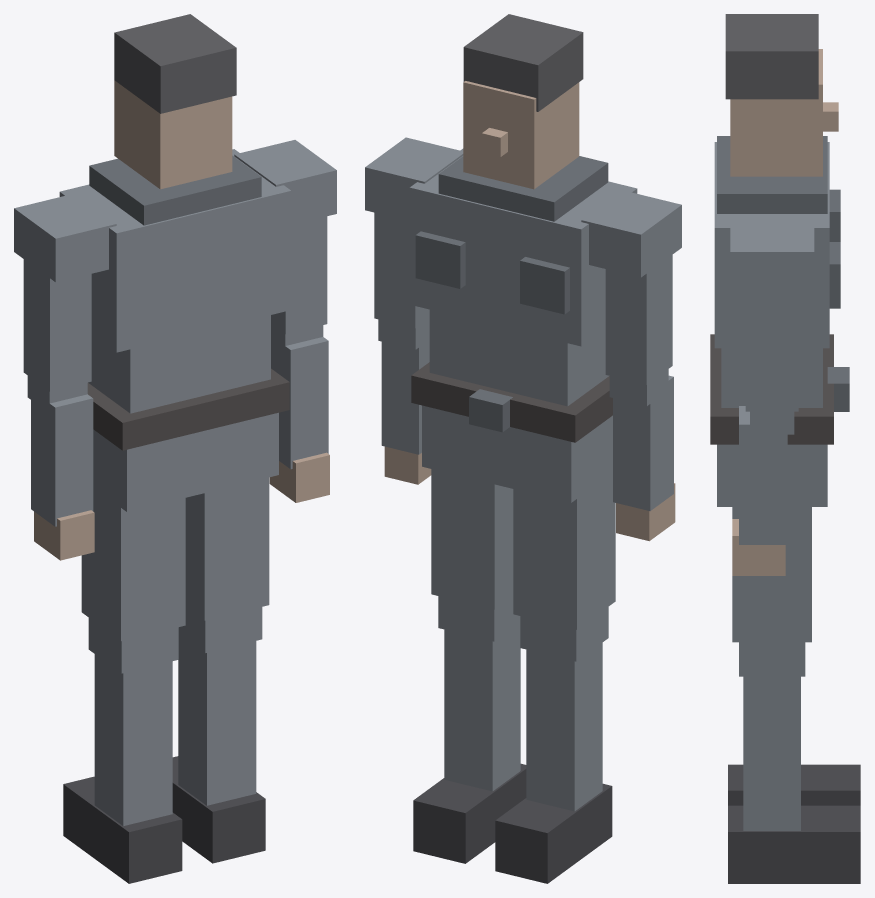
The model's file is crew_robles.glb.
3 views of the same model, side by side, from view 1: azimuth 30°, elevation 25°; view 2: azimuth 150°, elevation 25°; view 3: azimuth 270°, elevation 25° (orthographic). The views are drawn at different scales.
Parts seen in each view (by area): view 1: chest, thigh_-1, shin_1, shin_-1, hips, waist, thigh_1, beanie, head, uarm_l, farm_l, belt (+13 smaller); view 2: chest, thigh_-1, shin_-1, shin_1, hips, waist, thigh_1, head, beanie, boot_-1, uarm_l, boot_1 (+17 smaller); view 3: boot_1, shin_1, beanie, head, chest, thigh_1, shldr_1, uarm_r, farm_r, collar, belt, hips (+9 smaller).
Boxes of the visible parts, x1=… form: chest: x1=59, y1=149, x2=291, y2=352; thigh_-1: x1=81, y1=488, x2=185, y2=640; shin_1: x1=178, y1=634, x2=256, y2=805; shin_-1: x1=94, y1=654, x2=172, y2=825; hips: x1=93, y1=412, x2=278, y2=511; waist: x1=88, y1=315, x2=270, y2=413; thigh_1: x1=185, y1=477, x2=269, y2=620; beanie: x1=114, y1=14, x2=236, y2=113; head: x1=114, y1=80, x2=232, y2=189; uarm_l: x1=23, y1=259, x2=91, y2=391; farm_l: x1=31, y1=390, x2=93, y2=526; belt: x1=87, y1=368, x2=289, y2=450; chest: x1=409, y1=148, x2=637, y2=346; thigh_-1: x1=513, y1=473, x2=615, y2=629; shin_-1: x1=526, y1=643, x2=602, y2=811; shin_1: x1=444, y1=623, x2=520, y2=791; hips: x1=422, y1=405, x2=612, y2=502; waist: x1=429, y1=309, x2=609, y2=406; thigh_1: x1=431, y1=469, x2=513, y2=609; head: x1=463, y1=81, x2=579, y2=189; beanie: x1=463, y1=14, x2=583, y2=111; boot_-1: x1=495, y1=783, x2=612, y2=883; uarm_l: x1=605, y1=255, x2=672, y2=384; boot_1: x1=413, y1=763, x2=526, y2=863; boot_1: x1=728, y1=805, x2=860, y2=883; shin_1: x1=743, y1=676, x2=800, y2=830; beanie: x1=725, y1=14, x2=818, y2=99; head: x1=730, y1=49, x2=822, y2=176; chest: x1=714, y1=142, x2=829, y2=348; thigh_1: x1=732, y1=507, x2=811, y2=642; shldr_1: x1=730, y1=222, x2=814, y2=296; uarm_r: x1=745, y1=296, x2=798, y2=411; farm_r: x1=739, y1=406, x2=787, y2=544; collar: x1=717, y1=136, x2=827, y2=213; belt: x1=710, y1=334, x2=833, y2=444; hips: x1=717, y1=444, x2=827, y2=506.
Size of the model in its own units: 0.74 by 2.04 by 0.34.
